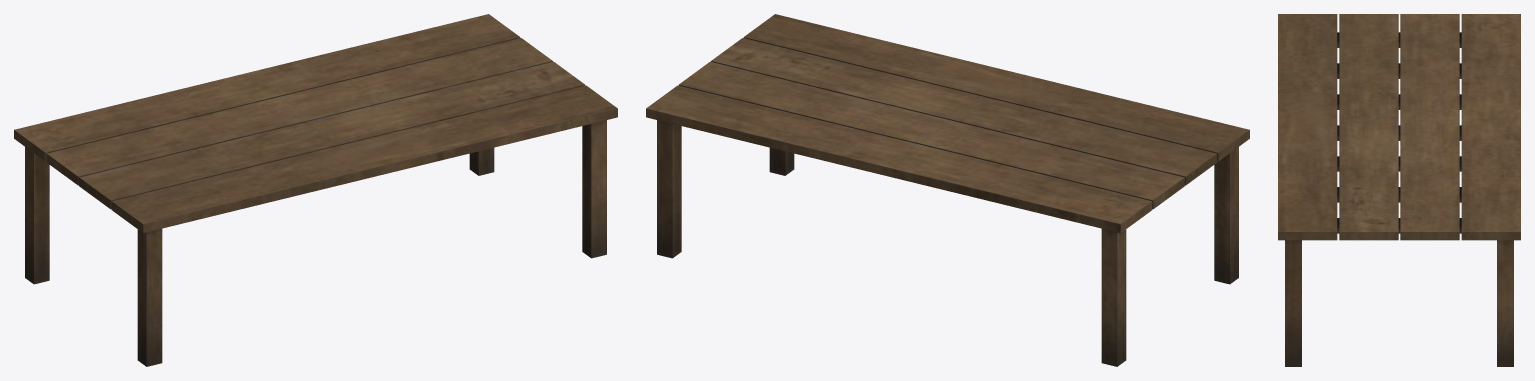
The model's file is SM_table_02.glb.
3 views of the same model, side by side, from view 1: azimuth 30°, elevation 25°; view 2: azimuth 150°, elevation 25°; view 3: azimuth 270°, elevation 25° (orthographic). The views are drawn at different scales.
Parts seen in each view (by area): view 1: SM_table_02; view 2: SM_table_02; view 3: SM_table_02.
Boxes of the visible parts, x1,y1,x2,y2 form: SM_table_02: [14, 14, 617, 366]; SM_table_02: [646, 14, 1249, 366]; SM_table_02: [1278, 14, 1520, 366].
Size of the model in its own units: 2.28 by 0.6742 by 1.07.
1 material, 1 textured.
